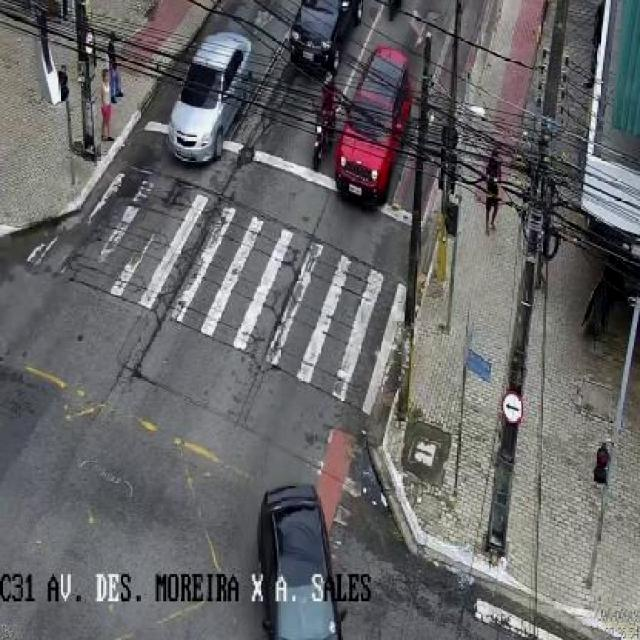Car: (256, 485, 348, 640), (332, 45, 413, 208), (167, 31, 255, 164), (286, 0, 366, 73)
Cycle: (310, 100, 342, 171)
